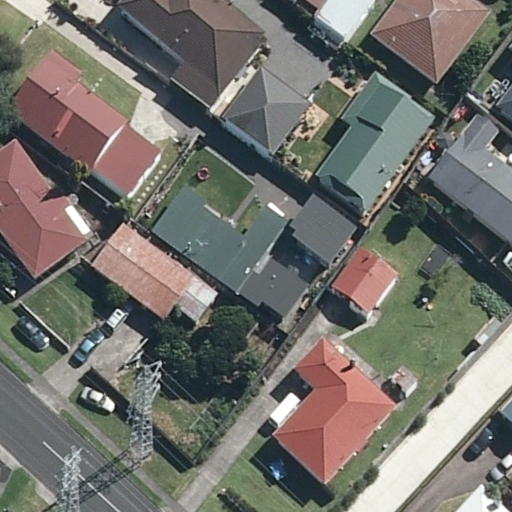TT: (123, 359, 162, 465), (51, 443, 87, 509)
